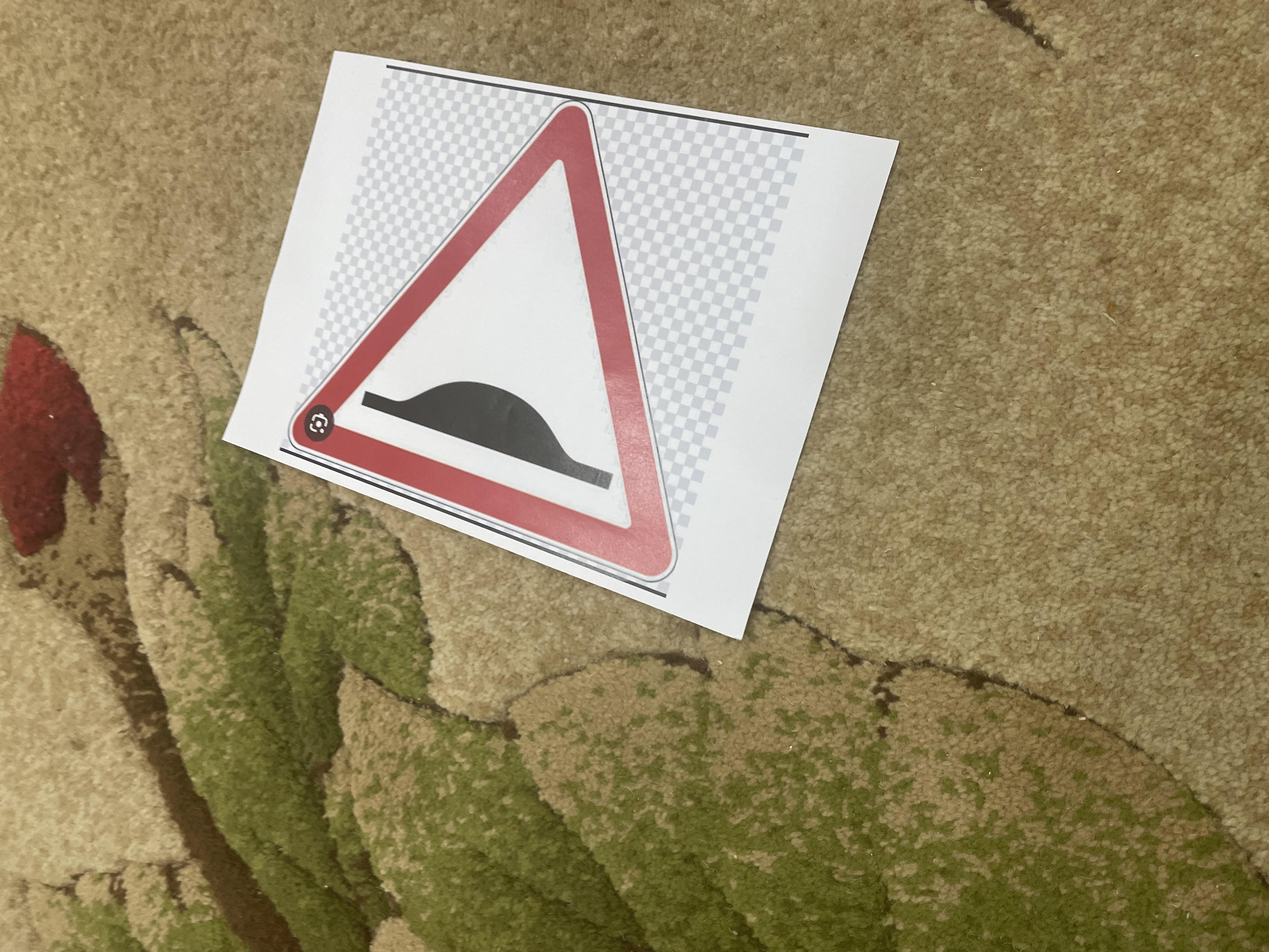Hump: (273, 106, 702, 597)
